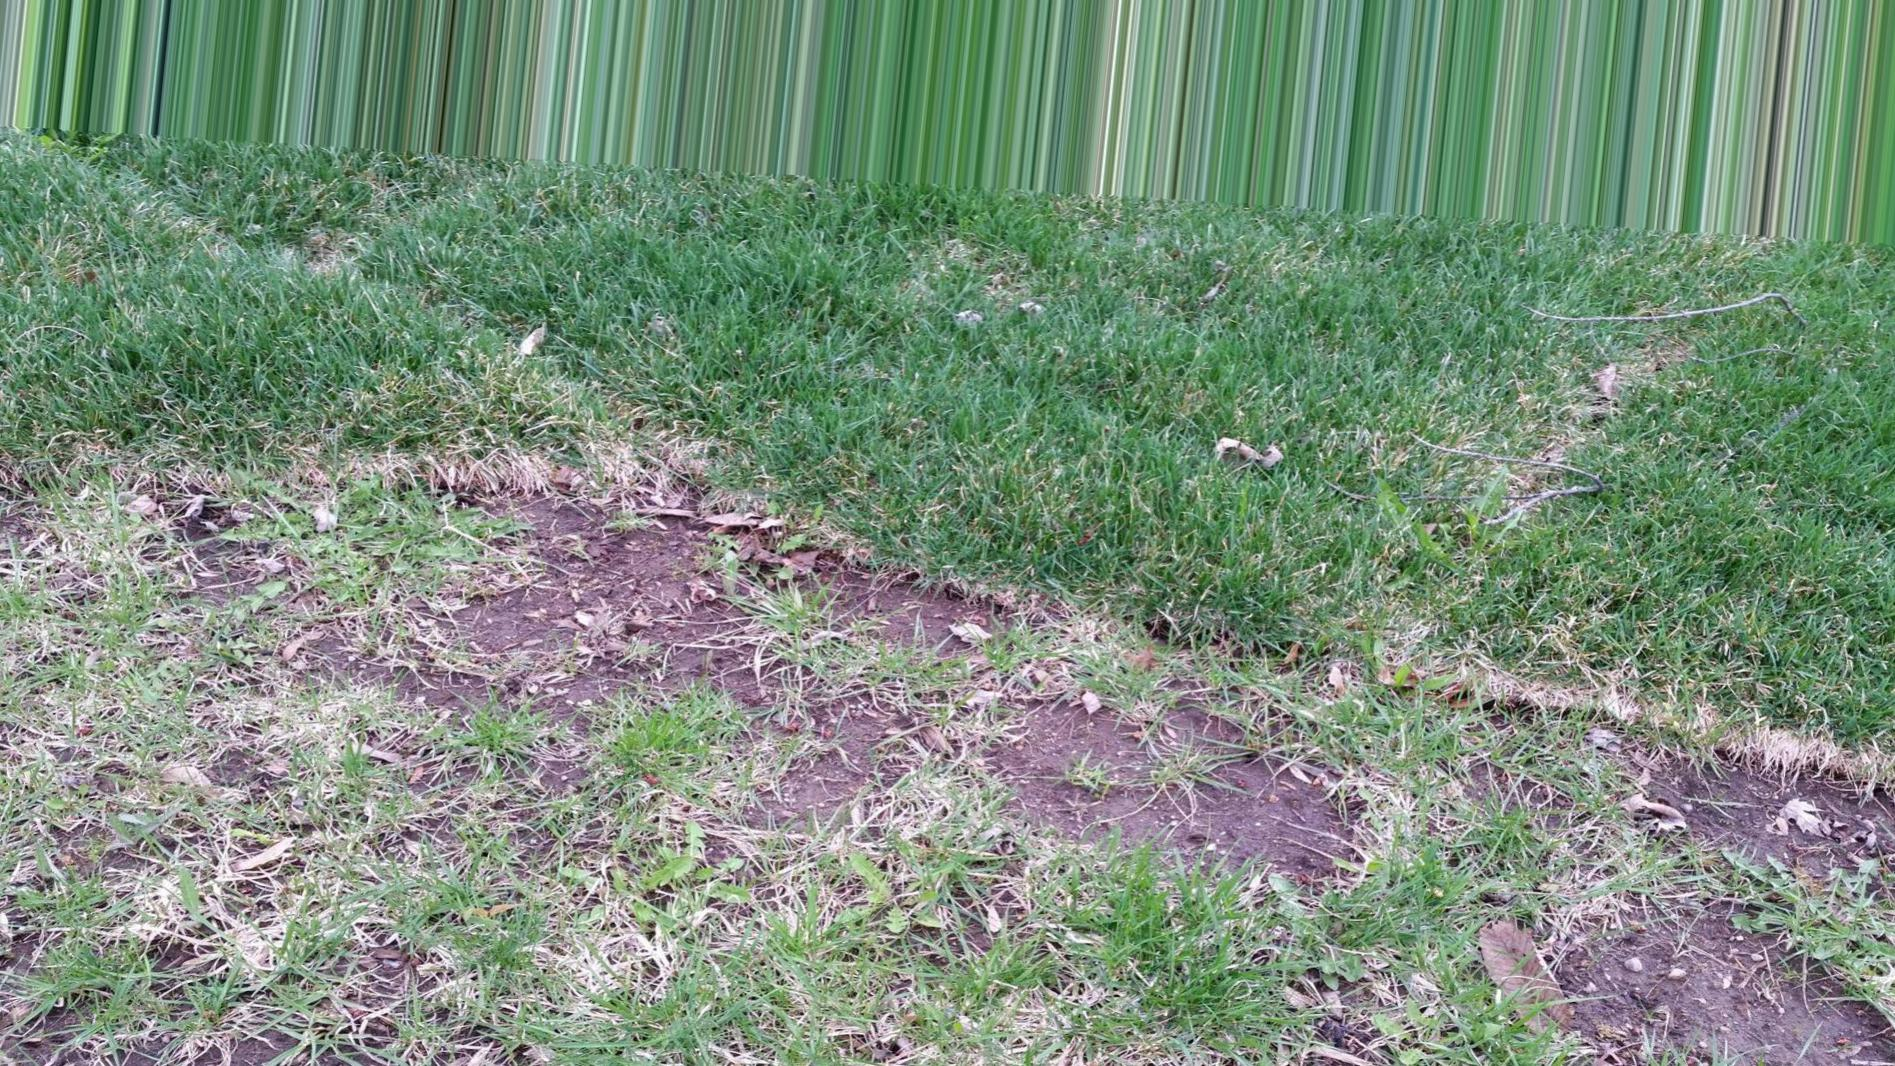patch: (579, 543, 711, 636), (1050, 729, 1175, 807)
